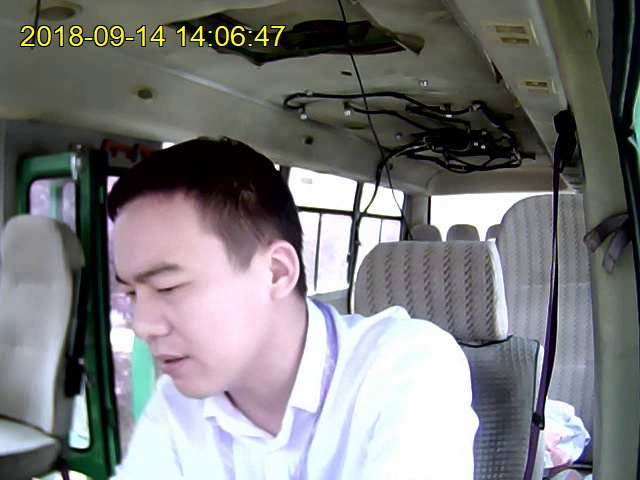closed_mouth: (152, 349, 186, 373)
